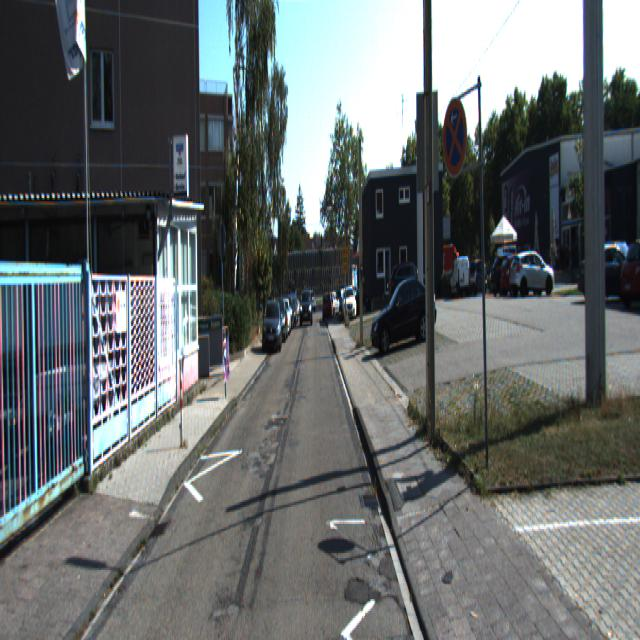Car: (367, 271, 439, 357), (573, 240, 639, 308), (509, 250, 557, 300), (499, 252, 546, 298), (618, 229, 640, 309), (261, 298, 283, 356), (465, 259, 489, 299), (450, 258, 470, 300), (341, 285, 356, 321), (299, 290, 313, 328)
